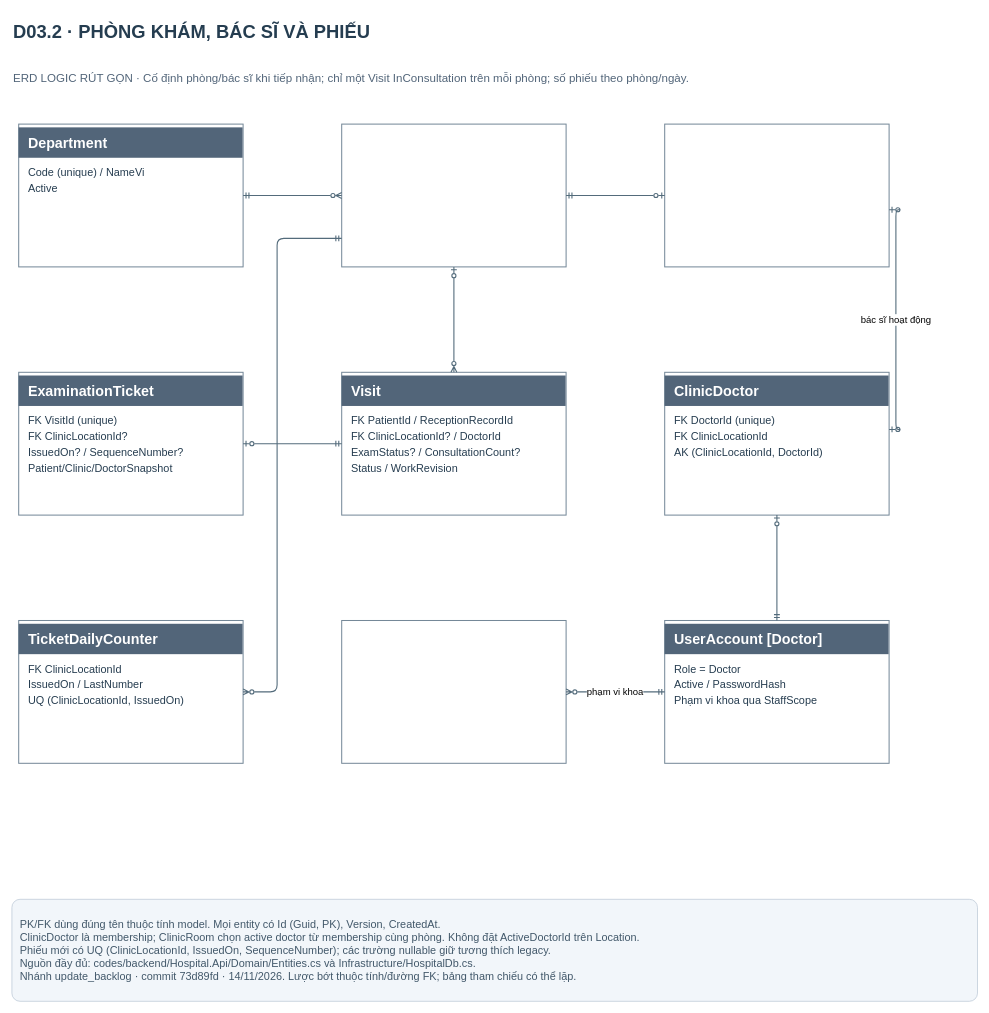
Image size: 989x1013. Some labels were removed from this diagram. Here are the shapes that lost their labels. From the top down, the box of each, then its label:
(341, 123, 566, 267): Location FK DepartmentId NameVi / Building / Floor / Room Active
(664, 123, 889, 267): ClinicRoom FK ClinicLocationId (unique) ActiveDoctorId? FK ghép tới ClinicDoctor
(341, 620, 566, 764): StaffScope FK UserAccountId / DepartmentId UQ (UserAccountId, DepartmentId)
